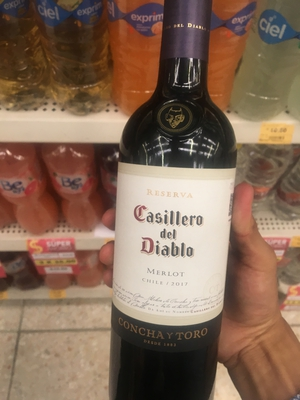casillero del diablo merlot: (93, 8, 246, 400)
